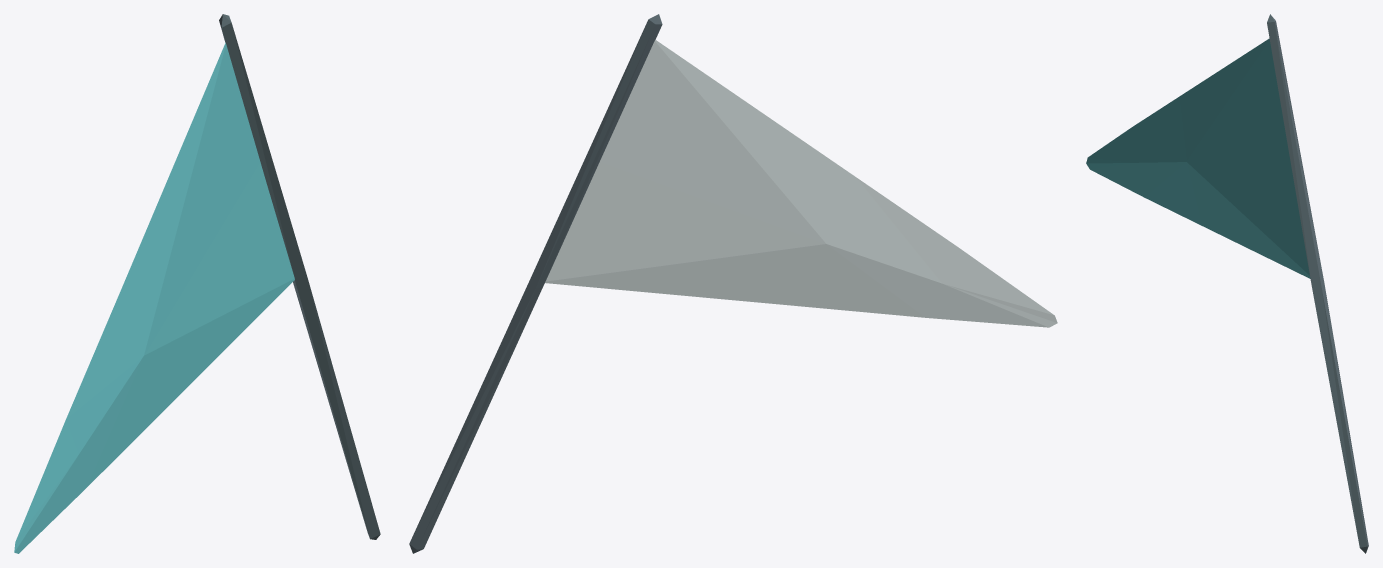
The model's file is CharSkyNPC_Prop_Flag.glb.
3 views of the same model, side by side, from view 1: azimuth 30°, elevation 25°; view 2: azimuth 150°, elevation 25°; view 3: azimuth 270°, elevation 25° (orthographic). The views are drawn at different scales.
Parts seen in each view (by area): view 1: CharSkyNPC_Prop_Flag; view 2: CharSkyNPC_Prop_Flag; view 3: CharSkyNPC_Prop_Flag.
Part boxes in pixels (bbox=[...]): CharSkyNPC_Prop_Flag: bbox=[14, 14, 380, 553]; CharSkyNPC_Prop_Flag: bbox=[409, 14, 1057, 553]; CharSkyNPC_Prop_Flag: bbox=[1086, 14, 1368, 553].
Size of the model in its own units: 4.51 by 4.87 by 2.7.
Materials: 1 (1 with a texture image).
